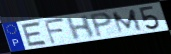5: (138, 5, 161, 31)
E: (20, 21, 50, 48)
F: (43, 17, 67, 45)
H: (65, 14, 96, 41)
M: (110, 7, 145, 35)
P: (89, 11, 114, 39)
